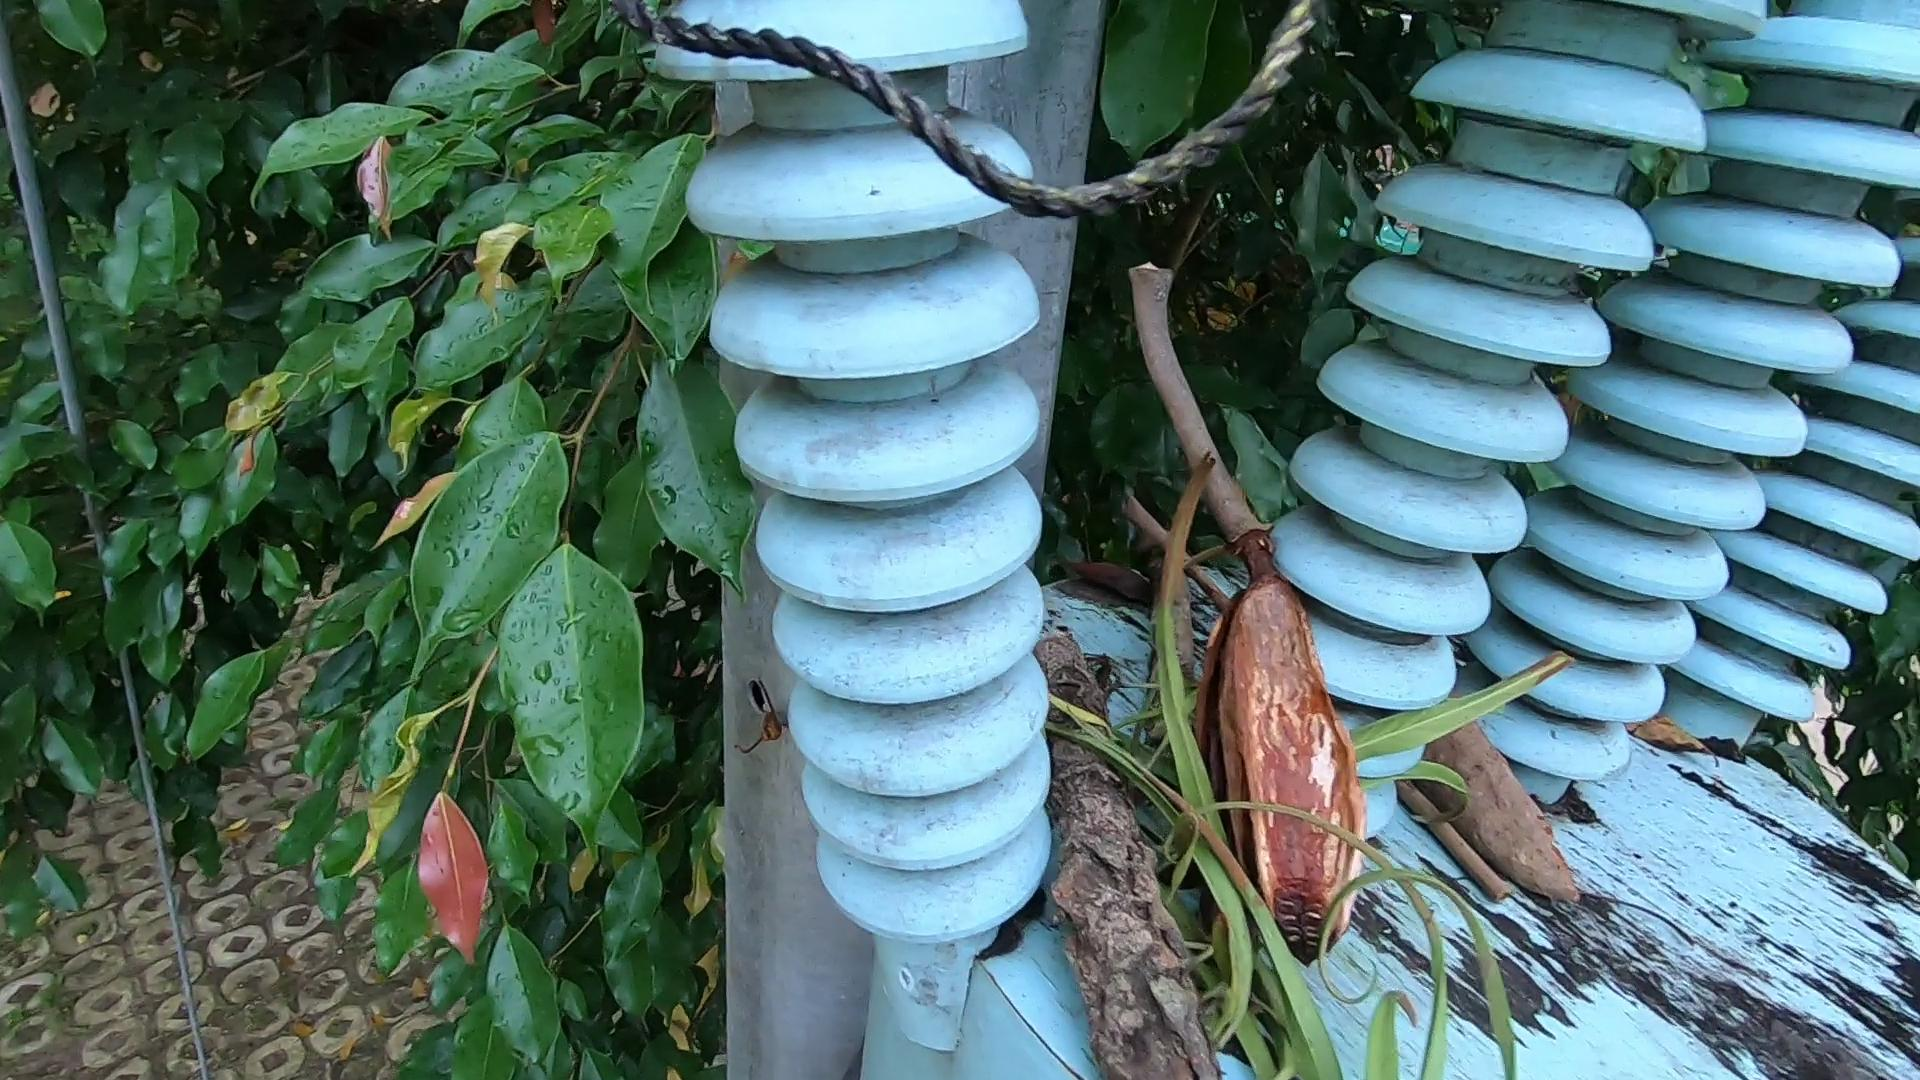branch with leaves: (1025, 448, 1598, 1080)
leaf: (1072, 545, 1178, 597), (1633, 707, 1727, 761)
mahogany fruit: (1160, 549, 1445, 1023), (1410, 682, 1625, 967)
tree branch: (1126, 261, 1356, 965), (1389, 771, 1506, 895), (1114, 487, 1232, 599)
